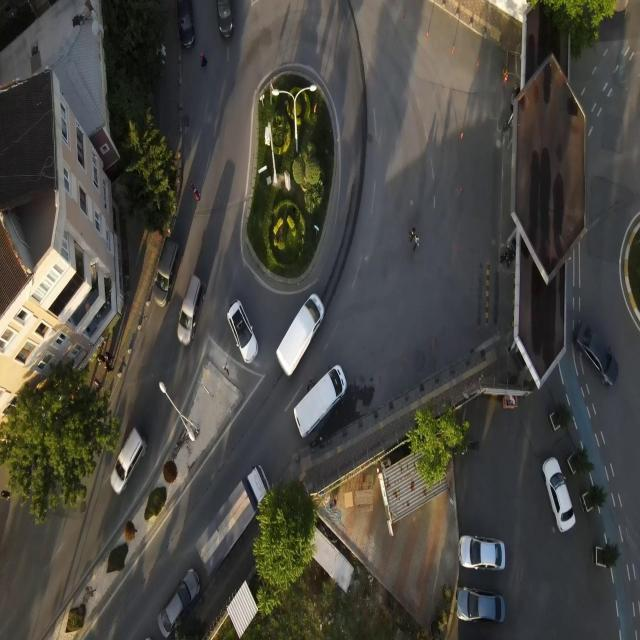p3rson: (506, 252, 516, 269), (190, 180, 200, 196), (93, 378, 104, 392), (408, 227, 416, 246), (199, 52, 208, 67), (160, 43, 166, 64), (104, 361, 114, 373), (104, 350, 114, 362), (413, 234, 419, 252), (500, 251, 508, 264), (222, 362, 229, 376), (96, 354, 105, 364), (1, 490, 10, 500), (307, 378, 313, 392)
